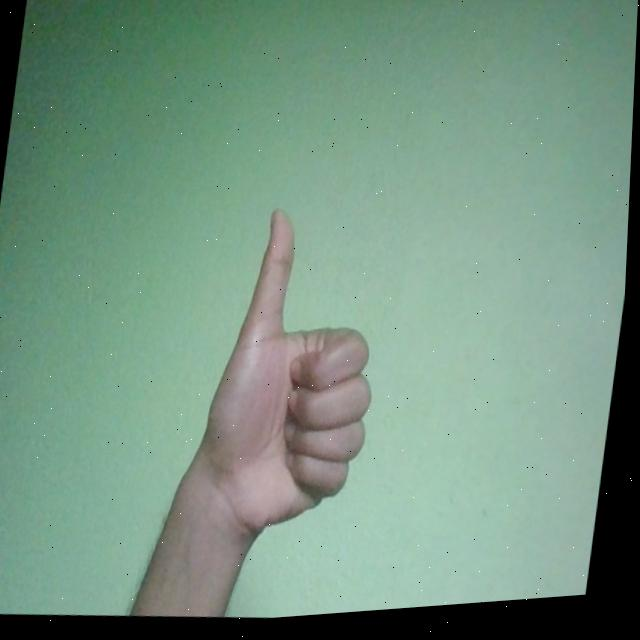Good Job: (194, 202, 398, 554)
